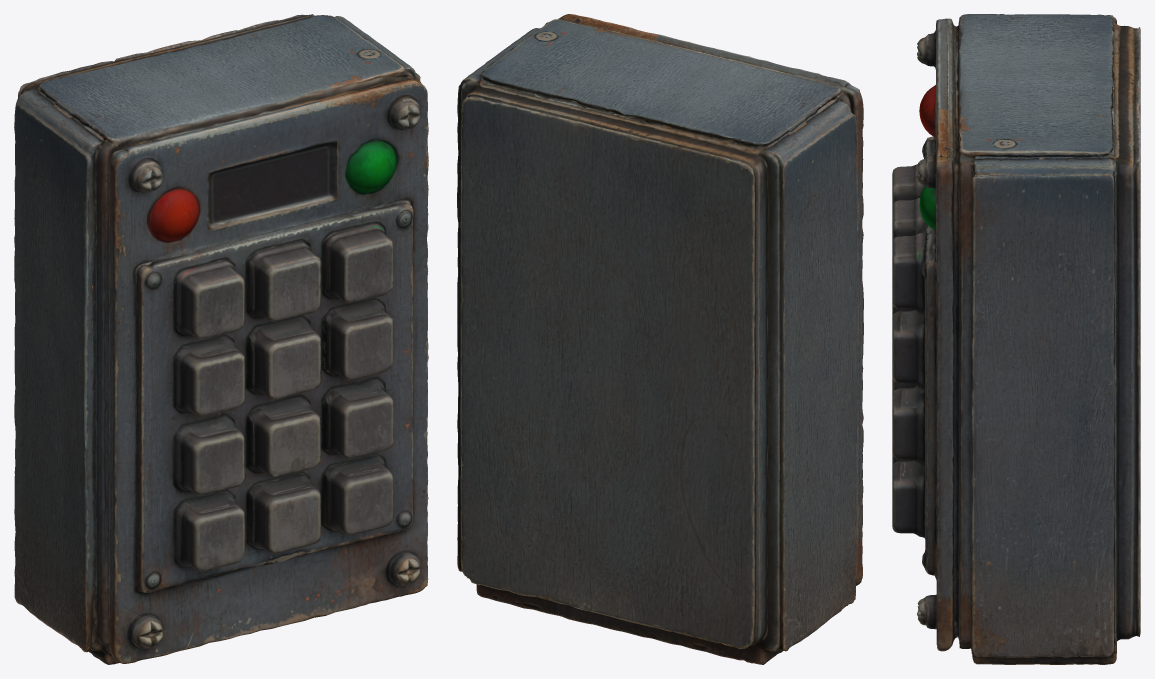
Rendered from Keypad.glb.
3 renders of one model, left to right at view 1: azimuth 30°, elevation 25°; view 2: azimuth 150°, elevation 25°; view 3: azimuth 270°, elevation 25°, orthographic. The views are drawn at different scales.
Parts seen in each view (by area): view 1: texture_mapping; view 2: texture_mapping; view 3: texture_mapping.
Boxes of the visible parts, box(x1,y1,x2,y2) form: texture_mapping: box(14, 14, 428, 664); texture_mapping: box(457, 14, 863, 664); texture_mapping: box(892, 14, 1140, 664).
Size of the model in its own units: 0.6647 by 0.9984 by 0.4348.
Materials: 1 (1 with a texture image).
